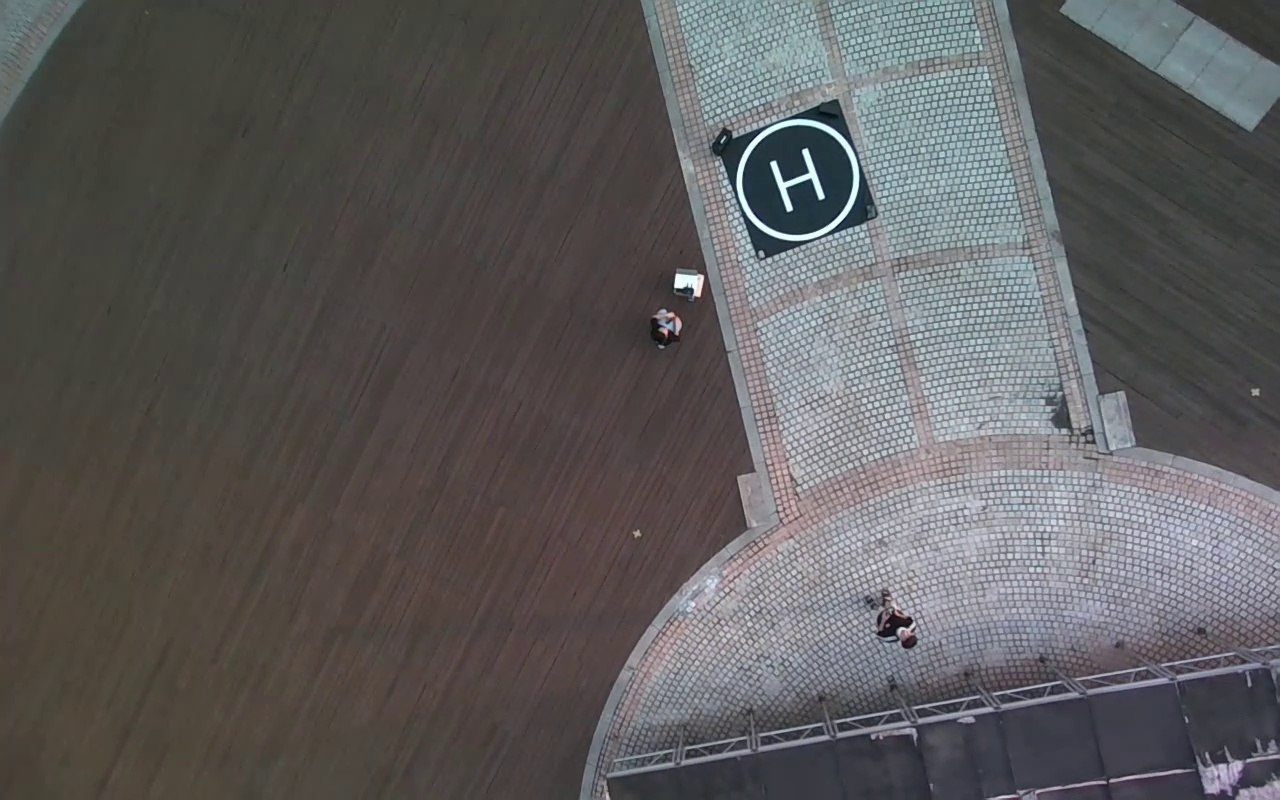H: (766, 147, 826, 213)
heliport: (737, 117, 861, 244)
